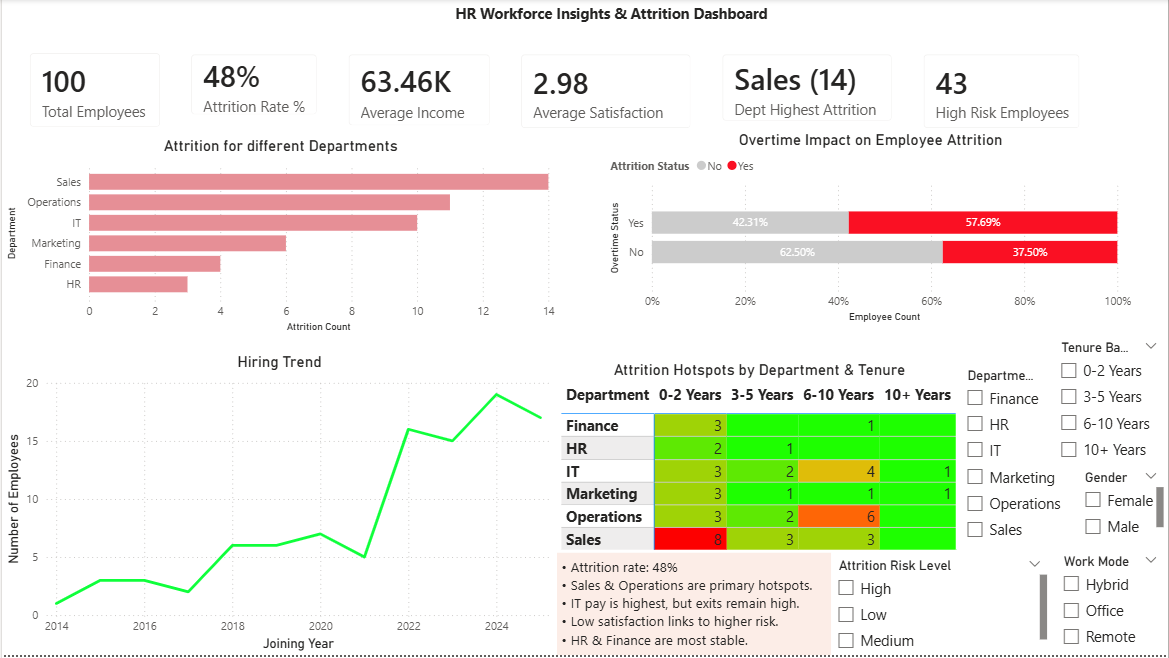

The page's visual inventory and layout, read from the dashboard file:
{"tool":"powerbi","page":{"name":"Dashboard 1","canvas":[1280,720],"ordinal":0},"visuals":[{"type":"textbox","box":[492.6,0,355.4,38.4],"z":0},{"type":"cardVisual","fields":{"Data":["FactPerformance.Average Satisfaction"]},"box":[553,43.9,220.9,115.3],"z":2},{"type":"cardVisual","fields":{"Data":["DimEmployees.Total Employees"]},"box":[13.7,42.5,177,115.3],"z":3},{"type":"cardVisual","fields":{"Data":["DimEmployees.Attrition Rate %"]},"box":[190.7,43.9,172.9,100.2],"z":4},{"type":"cardVisual","fields":{"Data":["DimEmployees.Dept Highest Attrition"]},"box":[773.9,43.9,220.9,107],"z":5},{"type":"cardVisual","fields":{"Data":["FactCompensation.Average Income"]},"box":[363.6,43.9,189.4,112.5],"z":6},{"type":"cardVisual","fields":{"Data":["DimEmployees.High Risk Employees"]},"box":[994.9,43.9,205.8,115.3],"z":9},{"type":"pivotTable","title":"Attrition Hotspots by Department & Tenure","fields":{"Columns":["DimEmployees.Tenure Band"],"Rows":["DimEmployees.Department"],"Values":["DimEmployees.Attrition Count"]},"box":[609.3,396.6,444.6,245.6],"z":10},{"type":"clusteredBarChart","title":"Attrition for different Departments","fields":{"Category":["DimEmployees.Department"],"Y":["DimEmployees.Attrition Count"]},"box":[0,150.9,612,219.6],"z":11},{"type":"lineChart","title":"Hiring Trend","fields":{"Category":["DimEmployees.Joining Year"],"Y":["DimEmployees.Total Employees"]},"box":[0,388.3,609.3,332.1],"z":12},{"type":"slicer","fields":{"Values":["DimEmployees.Department"]},"box":[1047,399.3,129,204.5],"z":13},{"type":"slicer","fields":{"Values":["FactAttrition.Attrition Risk Level"]},"box":[905.7,607.9,247,112.5],"z":14},{"type":"slicer","fields":{"Values":["DimEmployees.Tenure Band"]},"box":[1149.9,369.1,130.4,146.8],"z":15},{"type":"slicer","fields":{"Values":["DimEmployees.Gender"]},"box":[1176,511.8,104.3,85.1],"z":16},{"type":"slicer","fields":{"Values":["FactCompensation.Work Mode"]},"box":[1152.7,603.8,127.6,116.6],"z":17},{"type":"hundredPercentStackedBarChart","title":"Overtime Impact on Employee Attrition","fields":{"Category":["FactCompensation.Overtime Status"],"Series":["FactAttrition.Attrition Status"],"Y":["DimEmployees.Employee Count by Status"]},"box":[662.8,144.1,581.8,215.4],"z":18},{"type":"textbox","box":[609.3,607.9,300.5,112.5],"z":19}]}

Visuals, with their boxes in screenshot pixels (x1, y1, x2, y2), scaled from the page's 1280x720 canvas onto the 1169x658 screenshot:
textbox: 450:0:774:35
cardVisual - FactPerformance.Average Satisfaction: 505:40:707:145
cardVisual - DimEmployees.Total Employees: 13:39:174:144
cardVisual - DimEmployees.Attrition Rate %: 174:40:332:132
cardVisual - DimEmployees.Dept Highest Attrition: 707:40:909:138
cardVisual - FactCompensation.Average Income: 332:40:505:143
cardVisual - DimEmployees.High Risk Employees: 909:40:1097:145
"Attrition Hotspots by Department & Tenure" pivotTable: 556:362:963:587
"Attrition for different Departments" clusteredBarChart: 0:138:559:339
"Hiring Trend" lineChart: 0:355:556:657
slicer - DimEmployees.Department: 956:365:1074:552
slicer - FactAttrition.Attrition Risk Level: 827:556:1053:657
slicer - DimEmployees.Tenure Band: 1050:337:1168:471
slicer - DimEmployees.Gender: 1074:468:1168:546
slicer - FactCompensation.Work Mode: 1053:552:1168:657
"Overtime Impact on Employee Attrition" hundredPercentStackedBarChart: 605:132:1137:329
textbox: 556:556:831:657
